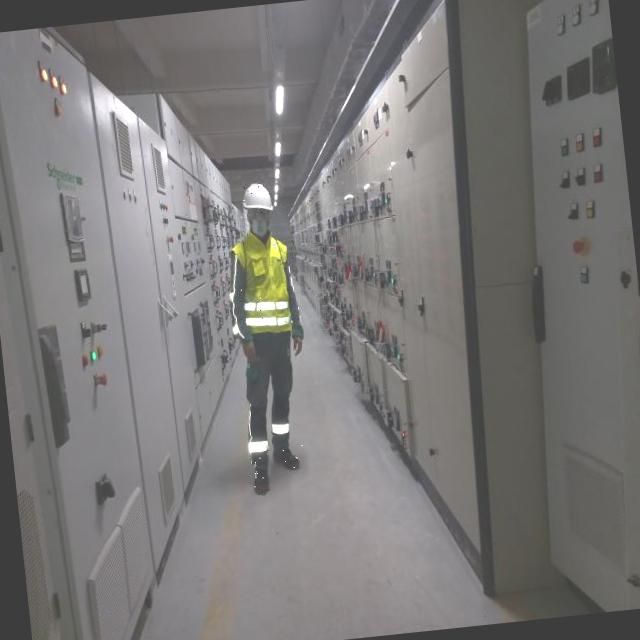boots: (276, 438, 306, 474), (250, 456, 271, 498)
helmet: (242, 179, 277, 214)
vest: (230, 226, 298, 342)
